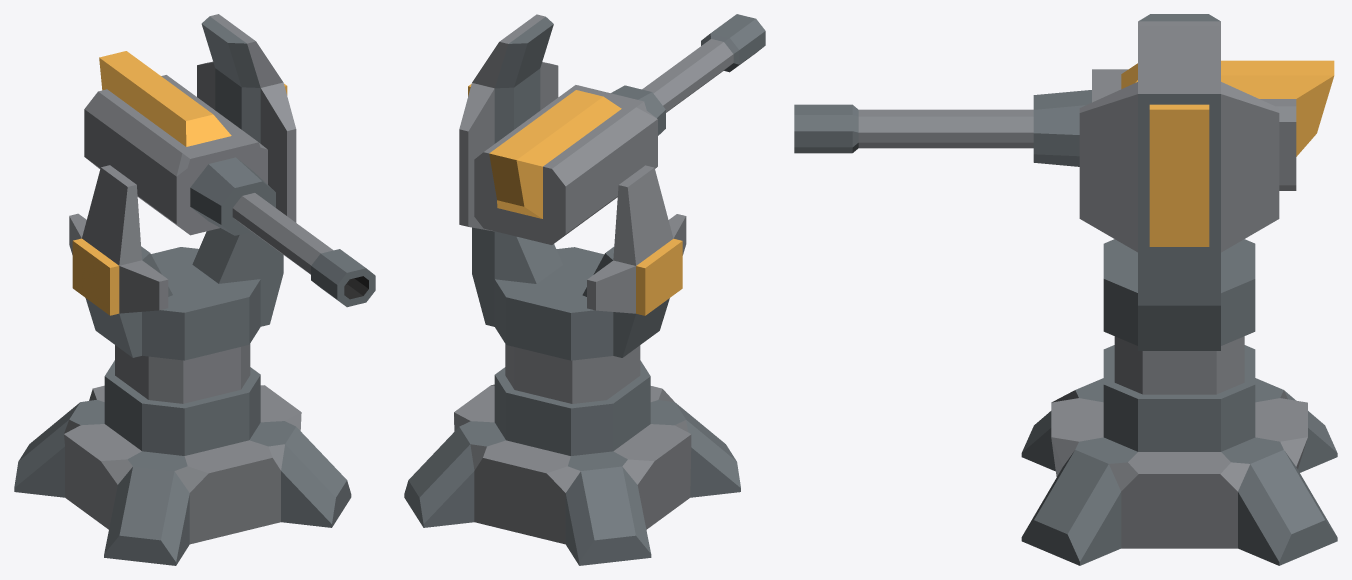
The model's file is Small Single Cannon Turret.fbx.
3 renders of one model, left to right at view 1: azimuth 30°, elevation 25°; view 2: azimuth 150°, elevation 25°; view 3: azimuth 270°, elevation 25°, orthographic. The views are drawn at different scales.
Visible parts, largest first — view 1: Base, Turret, TurretHead, Cannon; view 2: Base, Turret, TurretHead, Cannon; view 3: Base, Turret, TurretHead, Cannon.
Part boxes in pixels (bbox=[...]): Base: bbox=[14, 344, 351, 565]; Turret: bbox=[69, 14, 296, 360]; TurretHead: bbox=[84, 51, 275, 235]; Cannon: bbox=[232, 193, 375, 307]; Base: bbox=[404, 344, 740, 565]; Turret: bbox=[459, 14, 686, 360]; TurretHead: bbox=[474, 85, 665, 244]; Cannon: bbox=[642, 14, 765, 112]; Base: bbox=[1021, 336, 1337, 565]; Turret: bbox=[1079, 14, 1279, 350]; TurretHead: bbox=[1033, 60, 1334, 190]; Cannon: bbox=[794, 104, 1033, 153].
Size of the model in its own units: 54.14 by 95 by 93.07.
